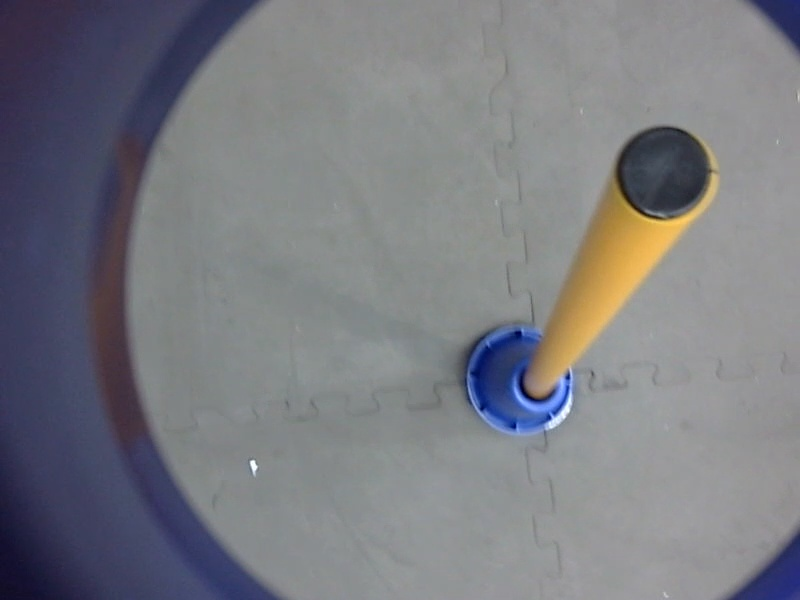tip: (609, 121, 723, 227)
